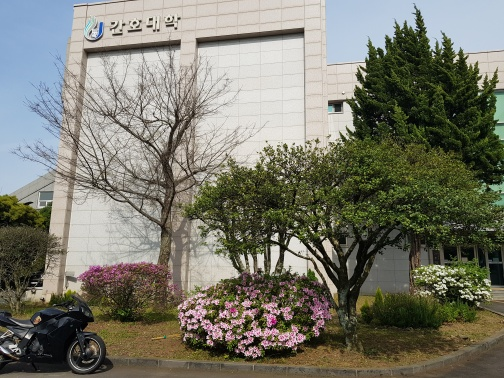College of Nursing: (58, 5, 491, 312), (69, 6, 188, 44)
